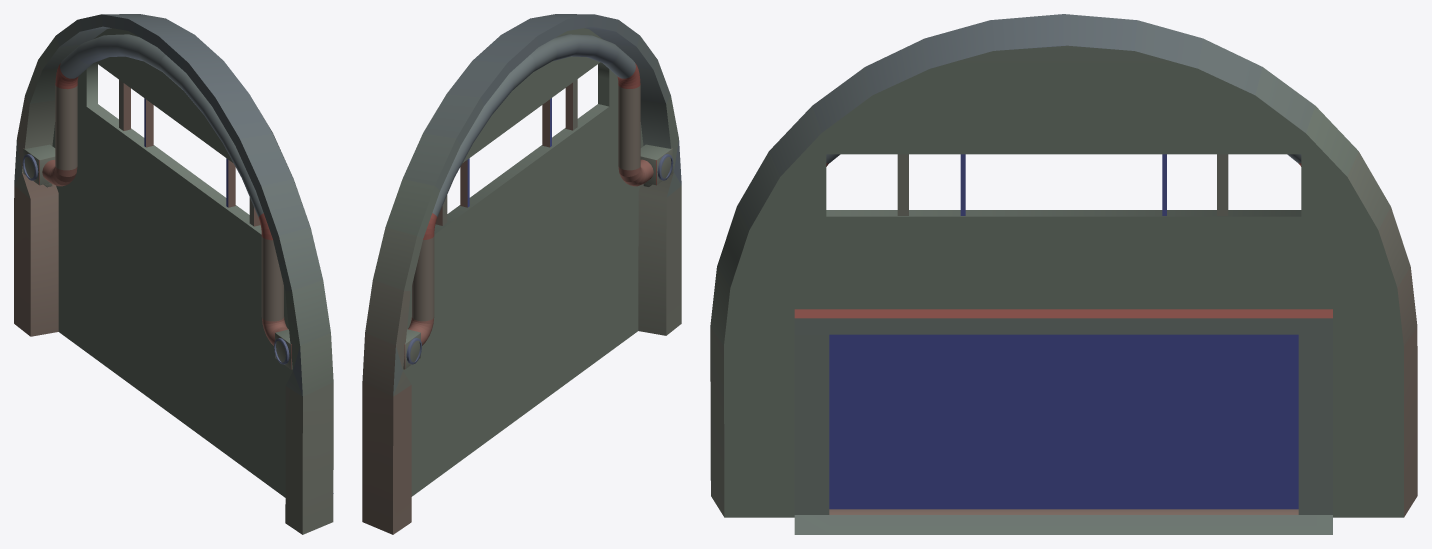
The model's file is wall_Enviro_02_.fbx.
3 views of the same model, side by side, from view 1: azimuth 30°, elevation 25°; view 2: azimuth 150°, elevation 25°; view 3: azimuth 270°, elevation 25° (orthographic). The views are drawn at different scales.
Parts seen in each view (by area): view 1: Wall, Pipes, window_pins, FanBox; view 2: Wall, Pipes, window_pins, FanBox; view 3: Wall, Gate, window_pins.
Boxes of the visible parts, x1=… form: Wall: x1=14, y1=14, x2=333, y2=534; Pipes: x1=42, y1=34, x2=288, y2=345; window_pins: x1=119, y1=80, x2=260, y2=226; FanBox: x1=22, y1=144, x2=292, y2=369; Wall: x1=362, y1=14, x2=681, y2=534; Pipes: x1=408, y1=34, x2=653, y2=345; window_pins: x1=435, y1=79, x2=577, y2=225; FanBox: x1=403, y1=144, x2=673, y2=369; Wall: x1=710, y1=14, x2=1417, y2=517; Gate: x1=794, y1=309, x2=1332, y2=534; window_pins: x1=897, y1=154, x2=1228, y2=215.
Bounding box in the file's own units: 285 × 1545 × 2055.
